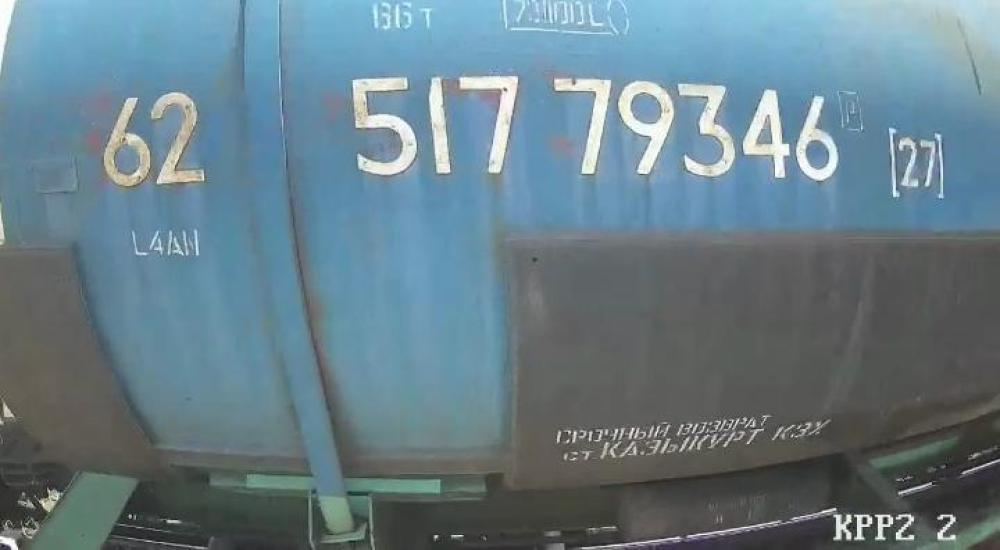Wagon-number: (348, 67, 844, 188)
